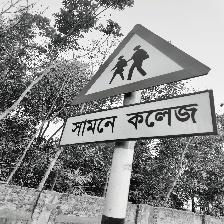College-in-front: (41, 4, 224, 212), (32, 33, 217, 154)
